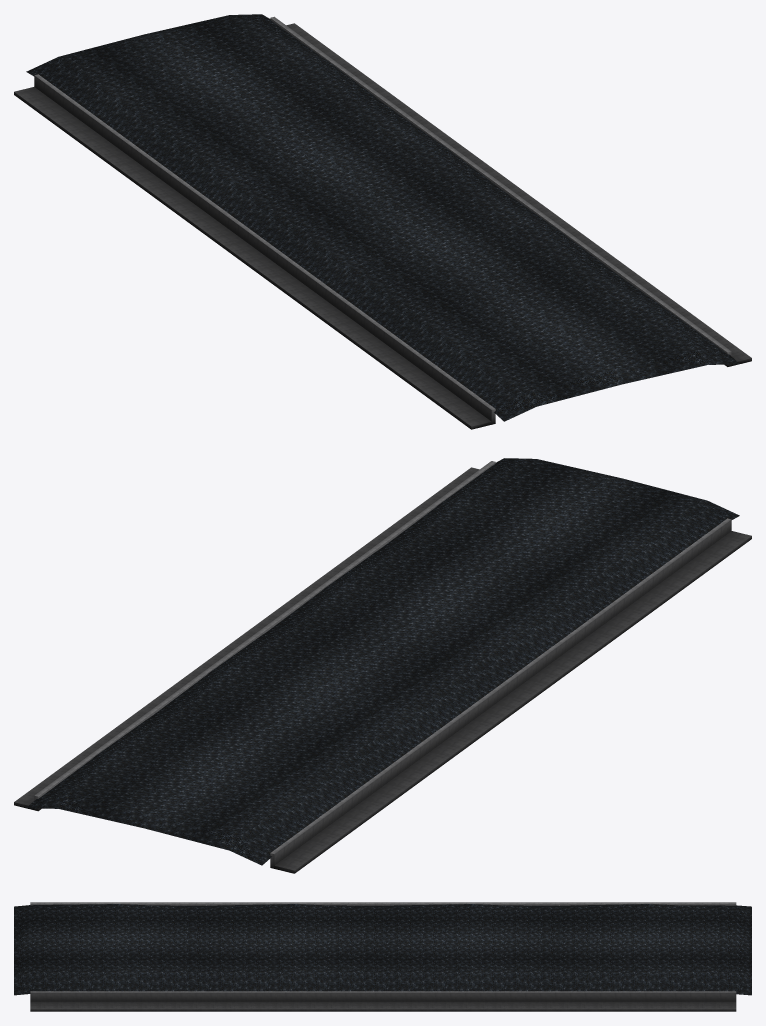
The model's file is AMB_SIN_JARI.glb.
3 views of the same model, one above another, from view 1: azimuth 30°, elevation 25°; view 2: azimuth 150°, elevation 25°; view 3: azimuth 270°, elevation 25° (orthographic). The views are drawn at different scales.
Visible parts, largest first — view 1: Mesh1; view 2: Mesh1; view 3: Mesh1.
Part boxes in pixels (<box>): Mesh1: <box>14,14,751,429</box>; Mesh1: <box>14,458,751,873</box>; Mesh1: <box>14,902,751,1011</box>.
Size of the model in its own units: 35.42 by 3.13 by 105.
Materials: 2 (2 with a texture image).
